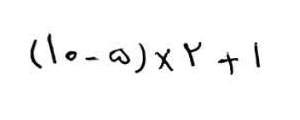character: (182, 39, 204, 68), (216, 50, 240, 76), (153, 46, 175, 73), (133, 40, 148, 76), (106, 46, 132, 66), (29, 38, 44, 70), (45, 32, 59, 66), (251, 40, 263, 70), (64, 48, 79, 63), (84, 52, 102, 64)
